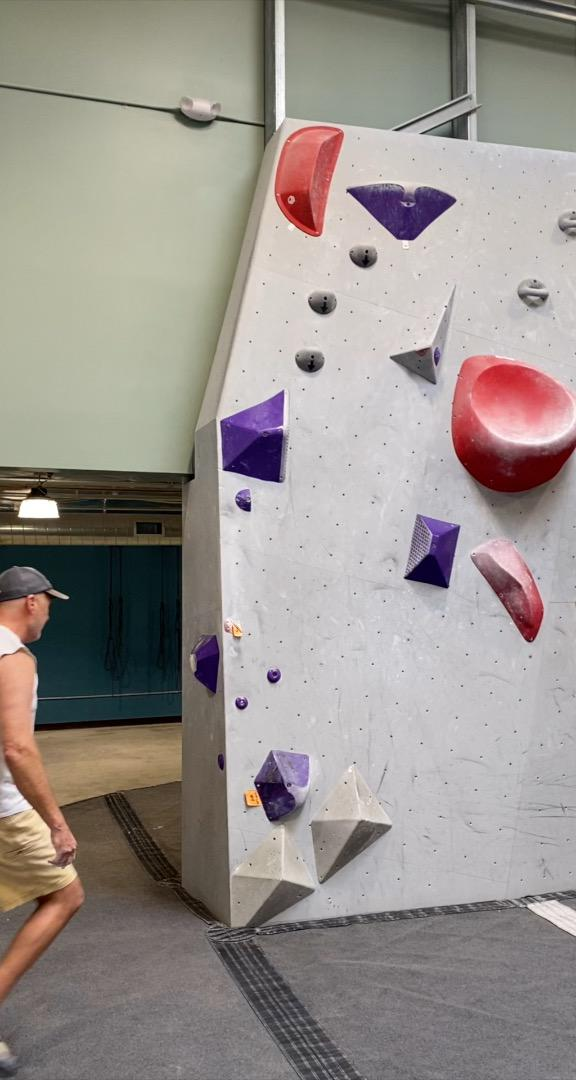holds: (449, 353, 575, 496), (470, 536, 546, 645), (274, 124, 345, 238), (219, 389, 292, 485), (345, 182, 458, 241), (402, 512, 463, 590), (253, 749, 312, 823), (189, 633, 221, 695), (517, 277, 550, 303), (348, 243, 379, 269), (307, 289, 338, 315), (295, 347, 326, 373), (233, 485, 254, 515), (221, 615, 245, 638), (557, 206, 575, 234), (266, 667, 282, 684), (432, 345, 443, 368), (411, 346, 432, 358), (234, 695, 249, 710), (216, 752, 225, 771)
